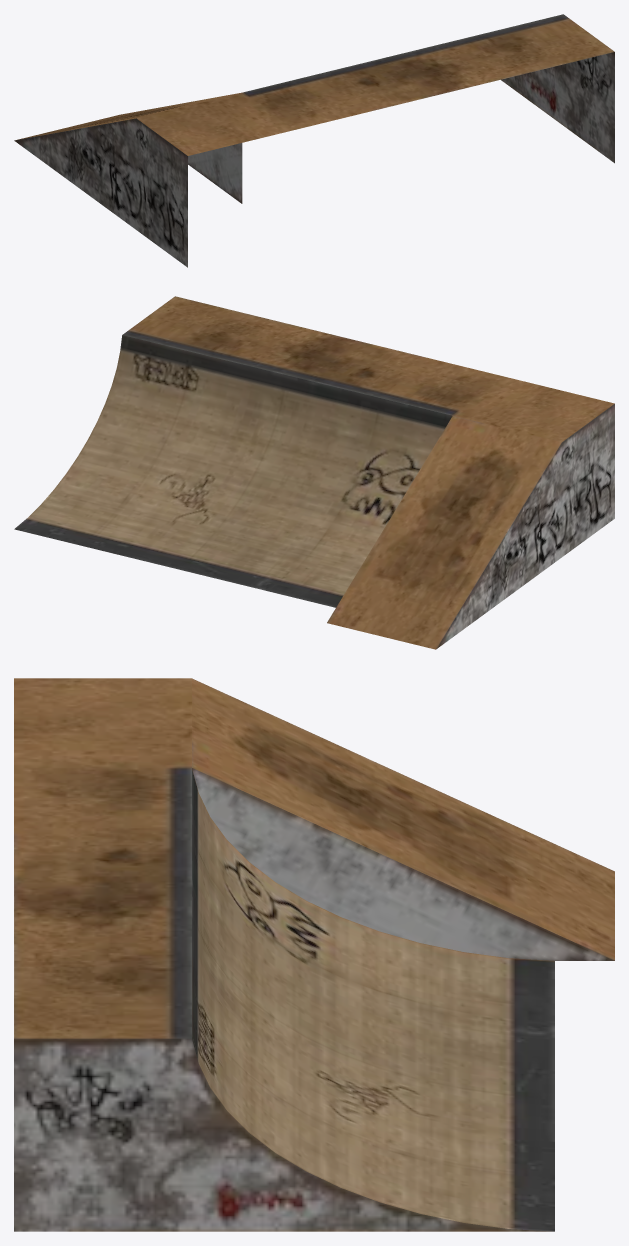
File: skate-wedge.lod0.glb
3 renders of one model, top to bottom at view 1: azimuth 30°, elevation 25°; view 2: azimuth 150°, elevation 25°; view 3: azimuth 270°, elevation 25°, orthographic. The views are drawn at different scales.
Parts seen in each view (by area): view 1: InclineRamp_M_Ramp_0; view 2: InclineRamp_M_Ramp_0; view 3: InclineRamp_M_Ramp_0.
Boxes of the visible parts, x1,y1,x2,y2 form: InclineRamp_M_Ramp_0: (14,14,614,267); InclineRamp_M_Ramp_0: (14,296,614,649); InclineRamp_M_Ramp_0: (14,678,614,1231).
Size of the model in its own units: 10.33 by 2.58 by 7.28.
Materials: 1 (1 with a texture image).
